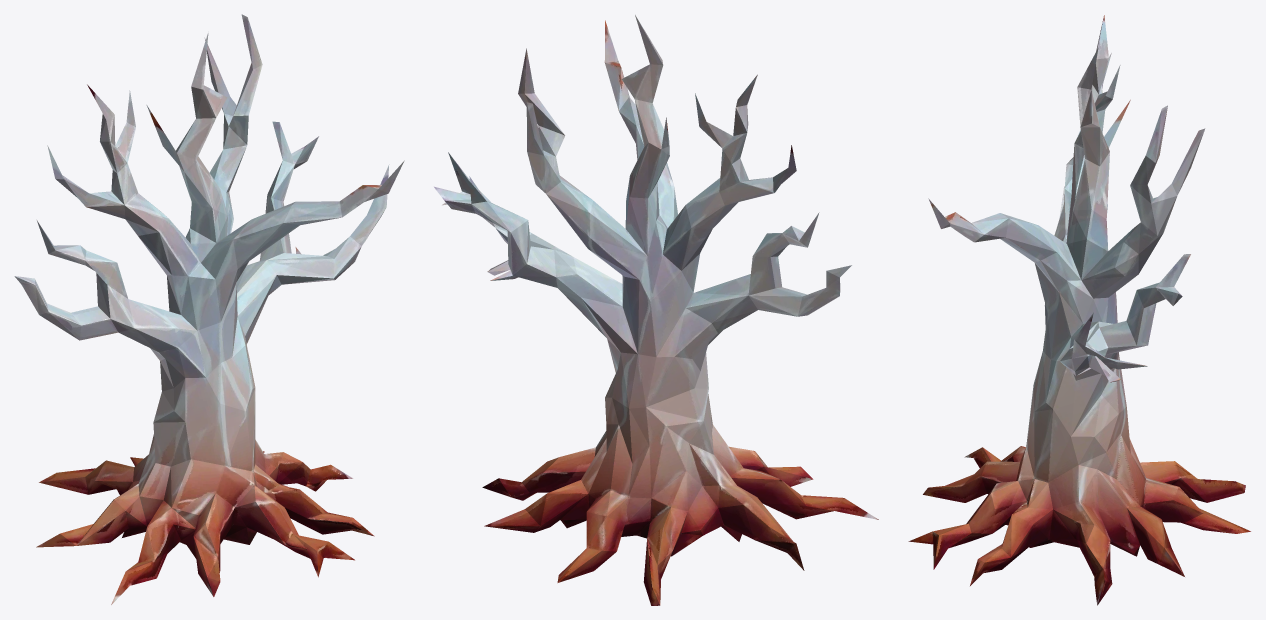
Rendered from crystal_tree.glb.
3 views of the same model, side by side, from view 1: azimuth 30°, elevation 25°; view 2: azimuth 150°, elevation 25°; view 3: azimuth 270°, elevation 25° (orthographic). The views are drawn at different scales.
Size of the model in its own units: 1.61 by 1.98 by 1.25.
Materials: 1 (1 with a texture image).
